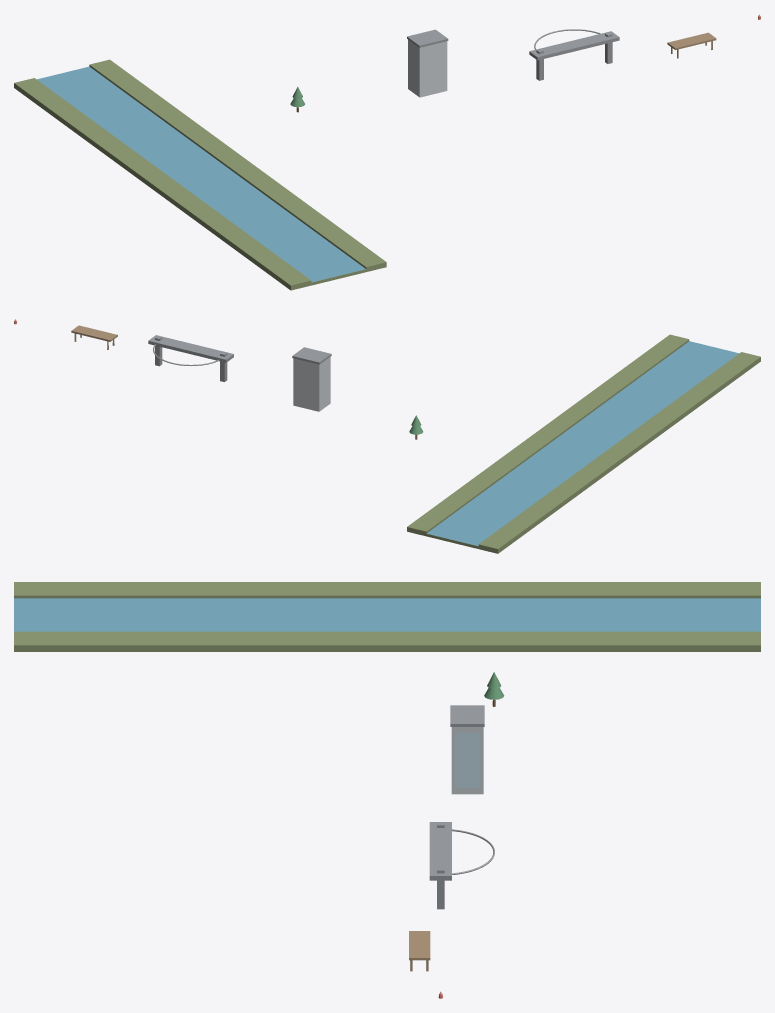
File: virtualrow-environment.glb
3 views of the same model, one above another, from view 1: azimuth 30°, elevation 25°; view 2: azimuth 150°, elevation 25°; view 3: azimuth 270°, elevation 25° (orthographic). The views are drawn at different scales.
Parts seen in each view (by area): view 1: WaterSurface, RiverbankLeft, RiverbankRight, BuildingCore, Riverbed, BridgeDeck, BuildingRoof; view 2: WaterSurface, RiverbankLeft, RiverbankRight, BuildingCore, Riverbed, BridgeDeck, BuildingRoof; view 3: WaterSurface, RiverbankRight, RiverbankLeft, Riverbed, BuildingWindowBand, BridgeDeck, BuildingCore, BuildingRoof.
Boxes of the visible parts, <box> form: WaterSurface: <box>37,66,365,282</box>; RiverbankLeft: <box>14,78,311,289</box>; RiverbankRight: <box>89,59,386,270</box>; BuildingCore: <box>408,40,447,97</box>; Riverbed: <box>14,86,386,290</box>; BridgeDeck: <box>529,31,619,60</box>; BuildingRoof: <box>407,29,448,47</box>; WaterSurface: <box>427,341,738,546</box>; RiverbankLeft: <box>478,352,760,550</box>; RiverbankRight: <box>407,334,689,534</box>; BuildingCore: <box>293,357,330,411</box>; Riverbed: <box>407,359,760,553</box>; BridgeDeck: <box>148,335,233,362</box>; BuildingRoof: <box>292,347,331,364</box>; WaterSurface: <box>14,598,760,631</box>; RiverbankRight: <box>14,631,760,650</box>; RiverbankLeft: <box>14,582,760,598</box>; Riverbed: <box>14,648,760,651</box>; BuildingWindowBand: <box>454,732,480,788</box>; BridgeDeck: <box>429,822,451,880</box>; BuildingCore: <box>451,727,483,794</box>; BuildingRoof: <box>450,705,484,726</box>.
Size of the model in its own units: 183 by 17.1 by 140.
